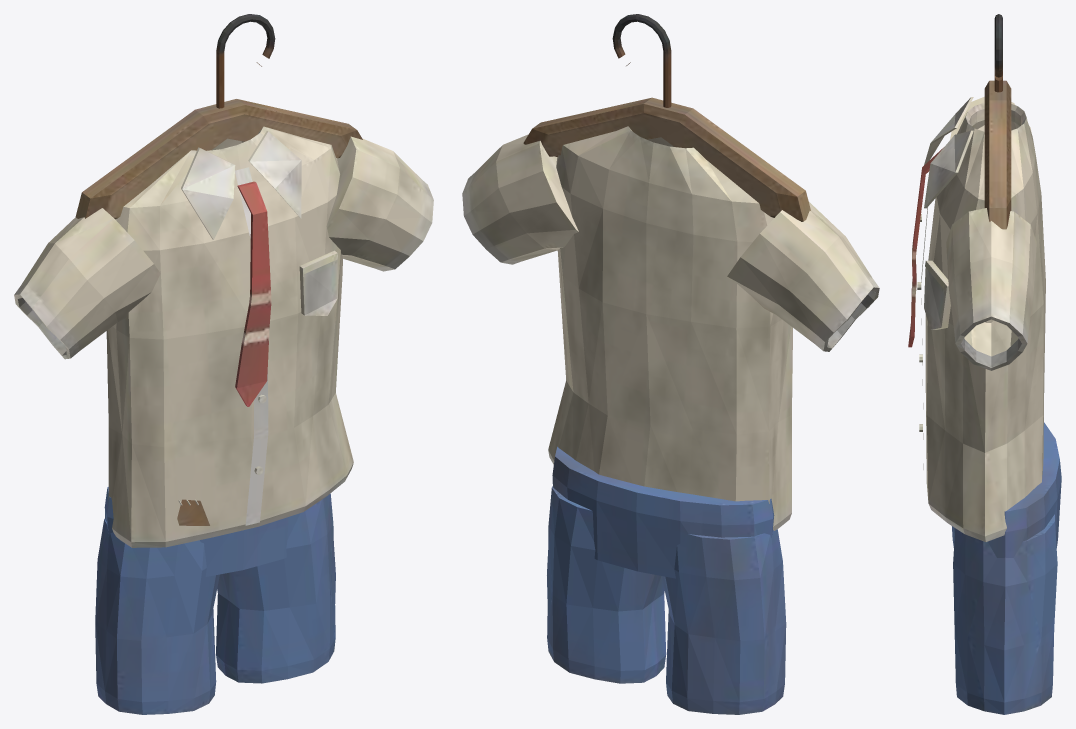
File: B15_school_uniform_on_hanger.glb
The picture shows the model from 3 angles, left to right: view 1: azimuth 30°, elevation 25°; view 2: azimuth 150°, elevation 25°; view 3: azimuth 270°, elevation 25°; orthographic projection.
Visible parts, largest first — view 1: School Uniform on Hanger; view 2: School Uniform on Hanger; view 3: School Uniform on Hanger.
Part boxes in pixels (x1=…): School Uniform on Hanger: x1=14, y1=14, x2=433, y2=714; School Uniform on Hanger: x1=462, y1=14, x2=879, y2=714; School Uniform on Hanger: x1=908, y1=14, x2=1061, y2=714.
Size of the model in its own units: 0.5126 by 0.8 by 0.1662.
10 materials, 10 textured.
